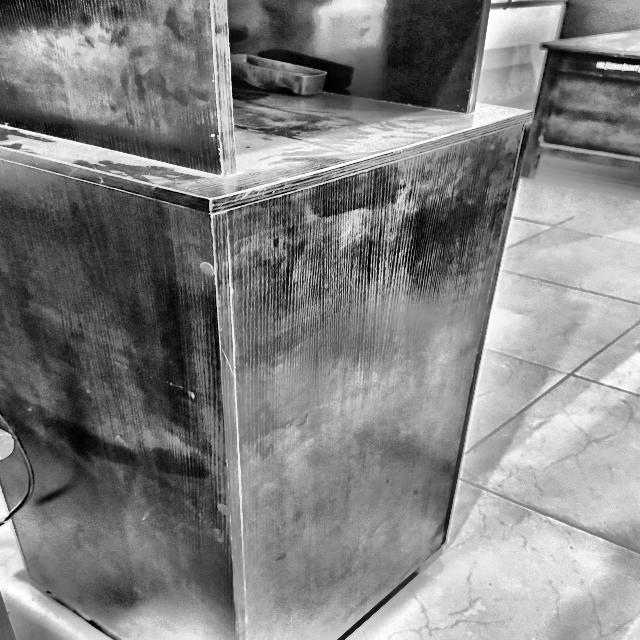table: (0, 0, 535, 632)
